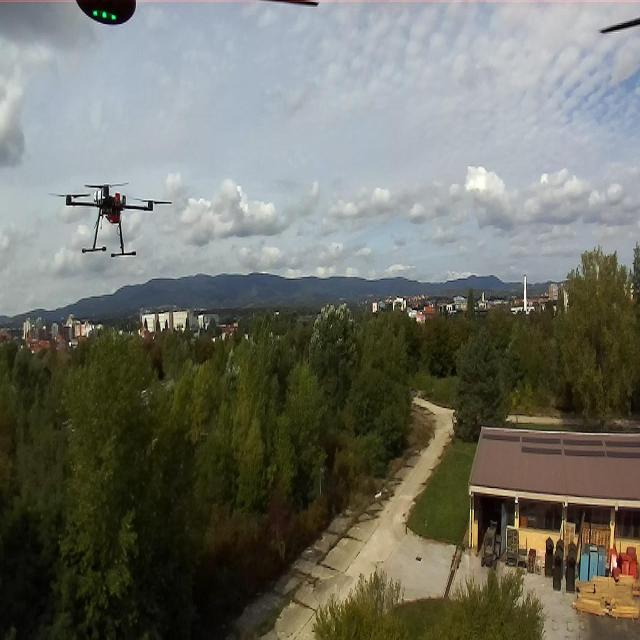drone: (0, 93, 201, 315)
